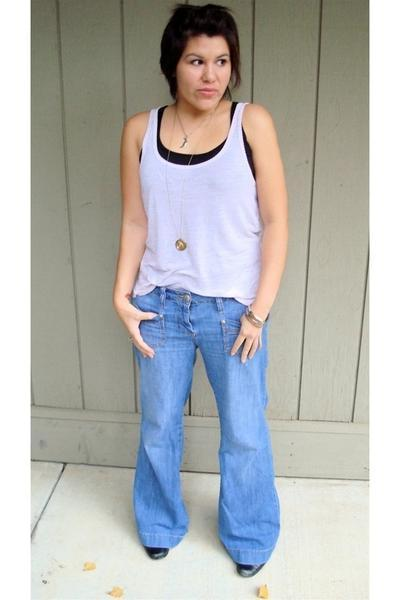trousers: (132, 288, 279, 566)
vest: (121, 95, 277, 300)
